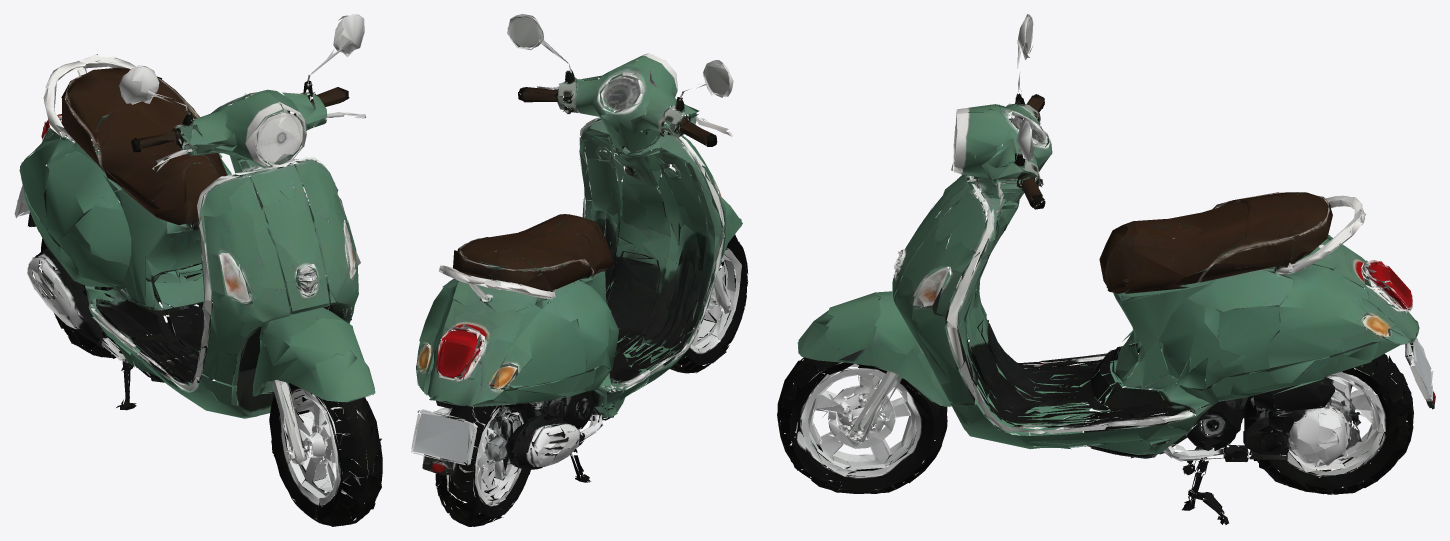
File: vision.glb
3 views of the same model, side by side, from view 1: azimuth 30°, elevation 25°; view 2: azimuth 150°, elevation 25°; view 3: azimuth 270°, elevation 25° (orthographic). The views are drawn at different scales.
Parts seen in each view (by area): view 1: sc1_vision_a; view 2: sc1_vision_a; view 3: sc1_vision_a.
Boxes of the visible parts, x1,y1,x2,y2 form: sc1_vision_a: [14, 14, 382, 526]; sc1_vision_a: [411, 14, 748, 526]; sc1_vision_a: [777, 14, 1435, 524].
Bounding box in the file's own units: 0.8149 × 1.33 × 1.86.
1 material, 1 textured.
